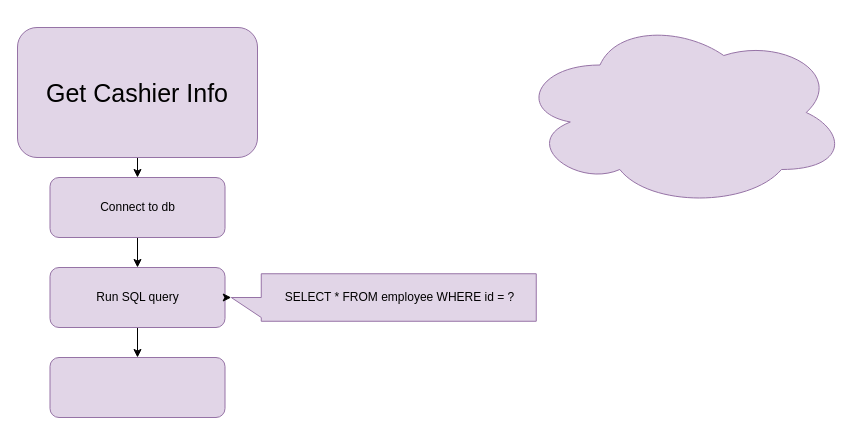
Image size: 865x435. Some labels were removed from this diagram. Each missing label, with the centre of its shape:
DESCRIPTION: Retrieve data from employee table and return it as a list: point 682,112
Return DATA: point 137,387
